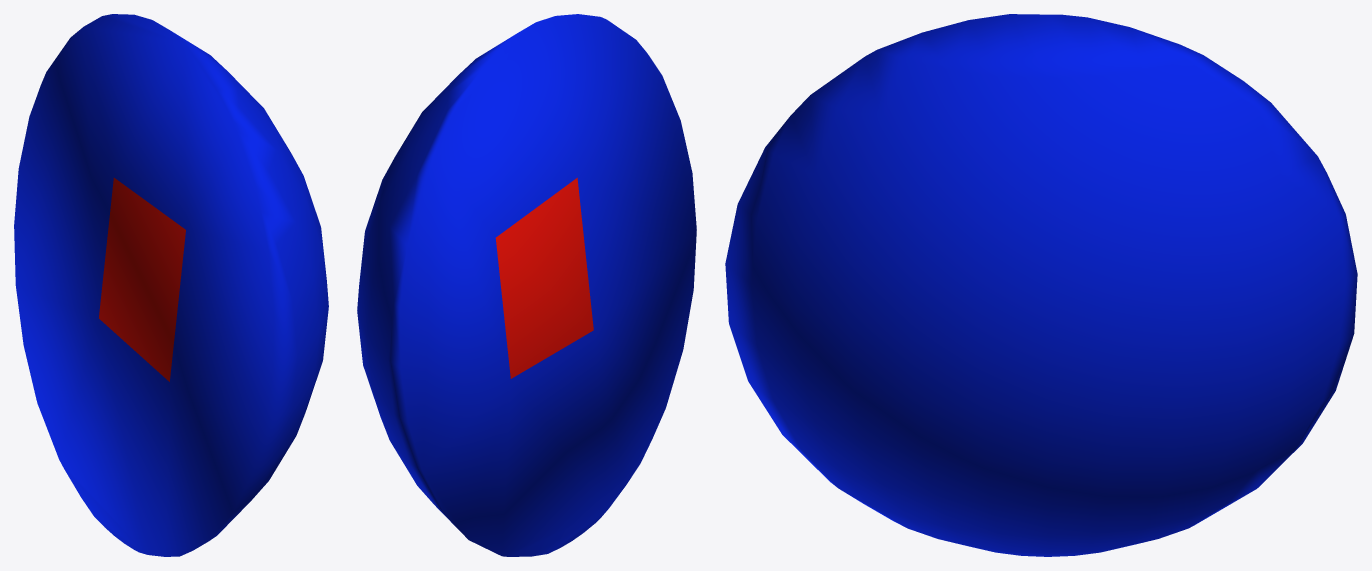
File: Orbe_PlayStation_F2.fbx
The picture shows the model from 3 angles, left to right: view 1: azimuth 30°, elevation 25°; view 2: azimuth 150°, elevation 25°; view 3: azimuth 270°, elevation 25°; orthographic projection. The views are drawn at different scales.
Visible parts, largest first — view 1: Orbe_PlayStation_F2; view 2: Orbe_PlayStation_F2; view 3: Orbe_PlayStation_F2.
Boxes of the visible parts, x1=… form: Orbe_PlayStation_F2: x1=14, y1=14, x2=328, y2=556; Orbe_PlayStation_F2: x1=357, y1=14, x2=696, y2=556; Orbe_PlayStation_F2: x1=725, y1=14, x2=1357, y2=556.
Bounding box in the file's own units: 65.92 × 177 × 177.
